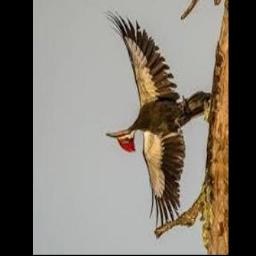Woodpecker: (103, 8, 213, 229)
